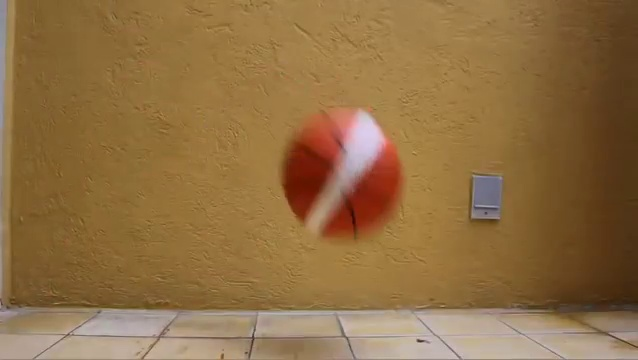ball: (282, 105, 402, 243)
